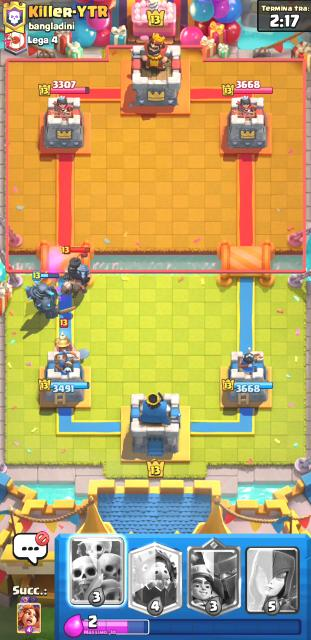ally_tank: (24, 271, 77, 319)
enemy_melee: (61, 252, 91, 298), (53, 330, 90, 360)
